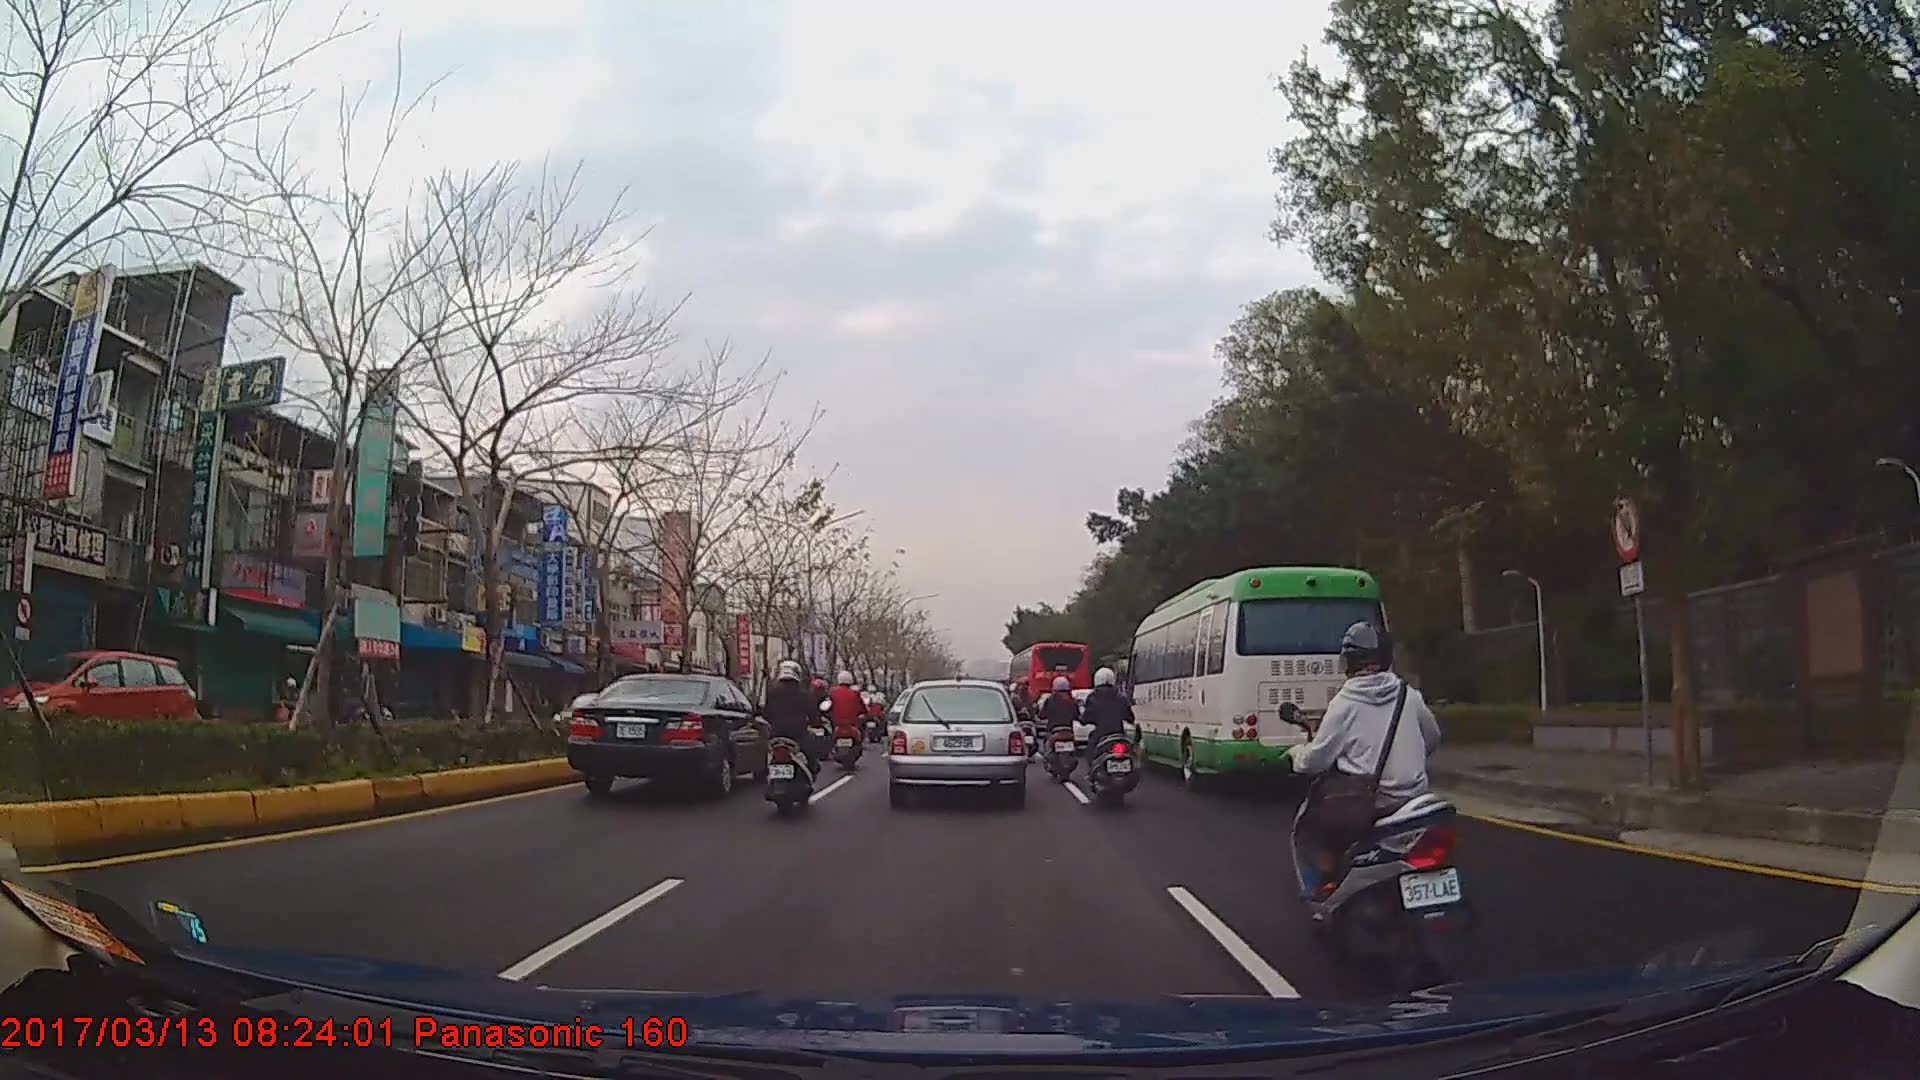rider: (1278, 620, 1468, 975), (758, 656, 830, 813), (1079, 671, 1144, 808), (1039, 672, 1084, 782), (826, 669, 868, 769), (804, 676, 836, 762), (1011, 676, 1039, 758), (270, 677, 301, 723), (864, 682, 887, 730)
vehicle: (1123, 561, 1397, 795), (564, 671, 774, 795), (0, 649, 196, 752), (887, 679, 1024, 805), (1005, 637, 1090, 733)
